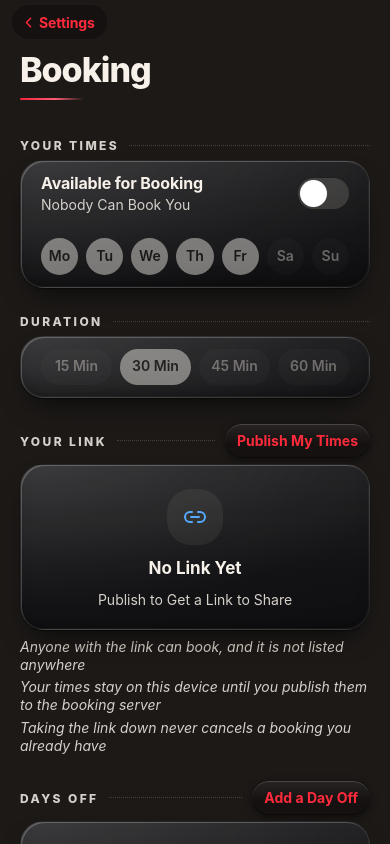
Test: BookingPage › says so when the day could not be saved, and keeps the sheet open
Click the button "Add a Day Off" at (311, 798), box [252,781,370,815]
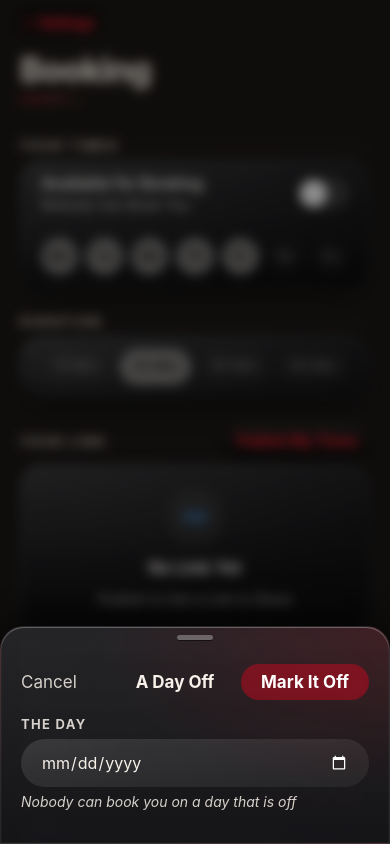
Type "2026-12-25" into the date field named "The day" at (195, 763), box [41,747,349,779]
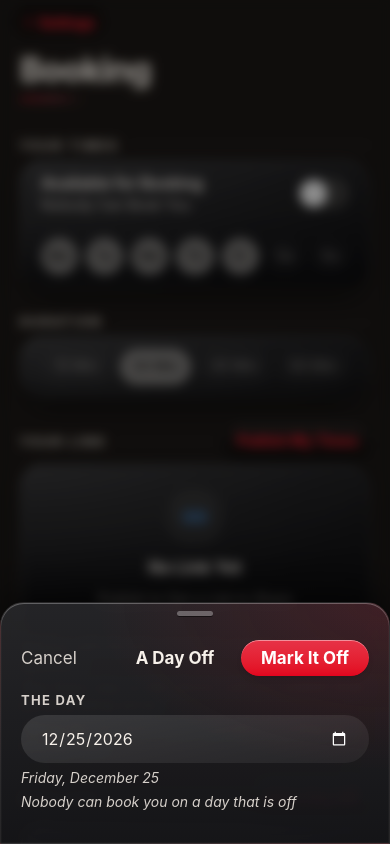
Click the button "Mark It Off" at (305, 658), box [241,640,369,676]
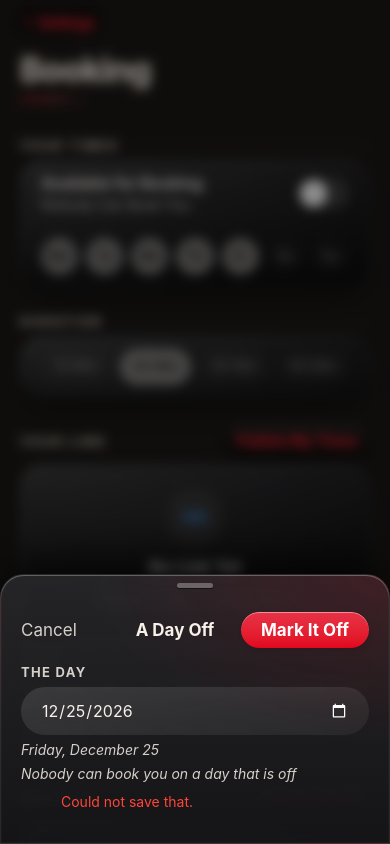
Now the button "Mark It Off" is shown, box [241,612,369,648]
Now the text "Could not save that." is shown, box [61,793,193,810]
